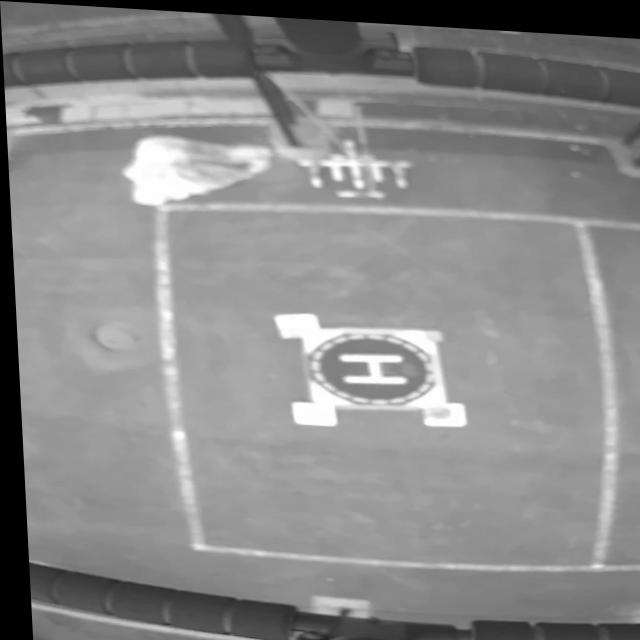Helipad: (333, 348, 407, 379)
